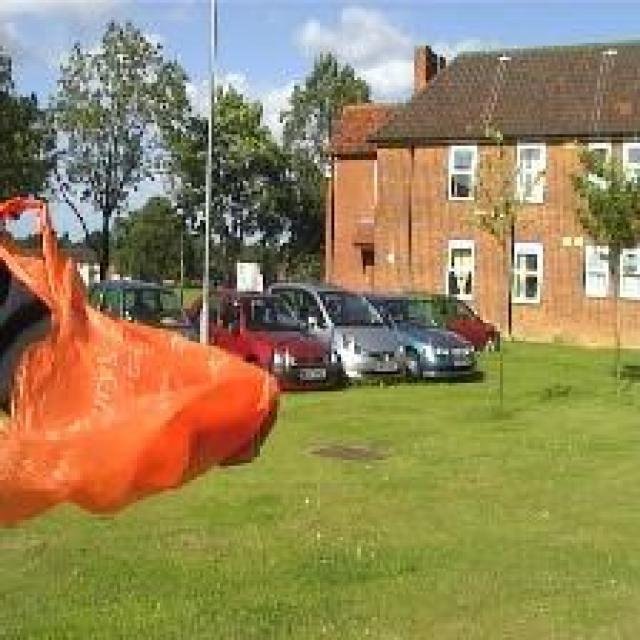other: (0, 179, 286, 524)
